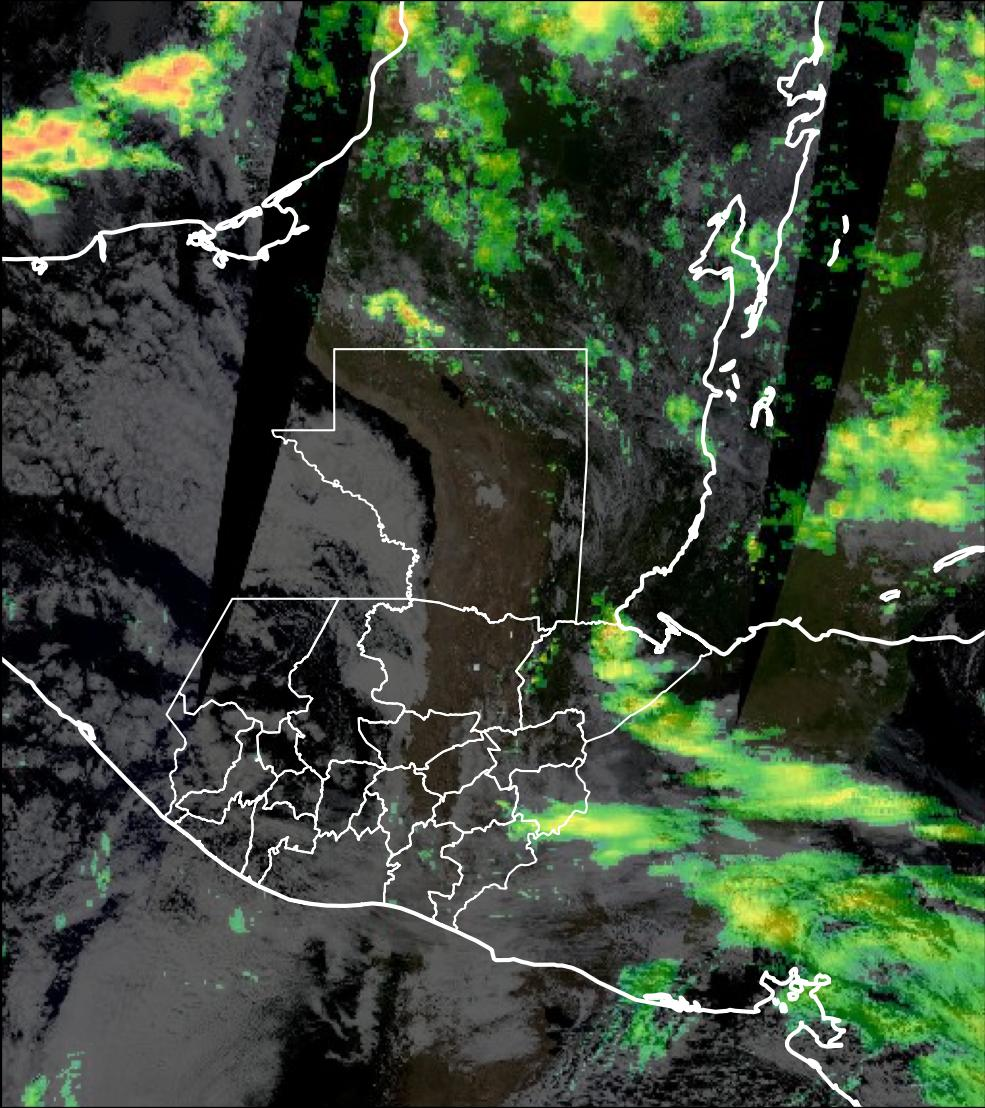precipitacion: (1, 102, 87, 202), (116, 50, 225, 114)
